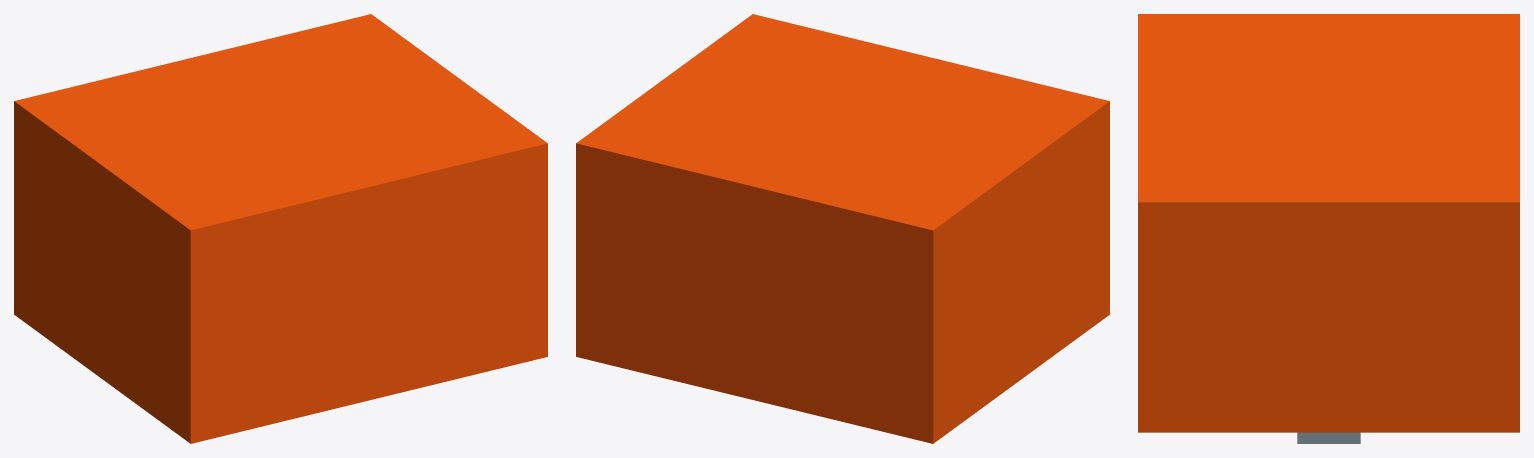
3 renders of one model, left to right at view 1: azimuth 30°, elevation 25°; view 2: azimuth 150°, elevation 25°; view 3: azimuth 270°, elevation 25°, orthographic. The views are drawn at different scales.
Parts seen in each view (by area): view 1: Jumper_Housing; view 2: Jumper_Housing; view 3: Jumper_Housing, Removable_Contact.
Boxes of the visible parts, x1,y1,x2,y2 form: Jumper_Housing: [14, 14, 547, 443]; Jumper_Housing: [576, 14, 1109, 443]; Jumper_Housing: [1138, 14, 1519, 432]; Removable_Contact: [1297, 432, 1360, 443].
Bounding box in the file's own units: 0.7 × 0.48 × 0.6.
